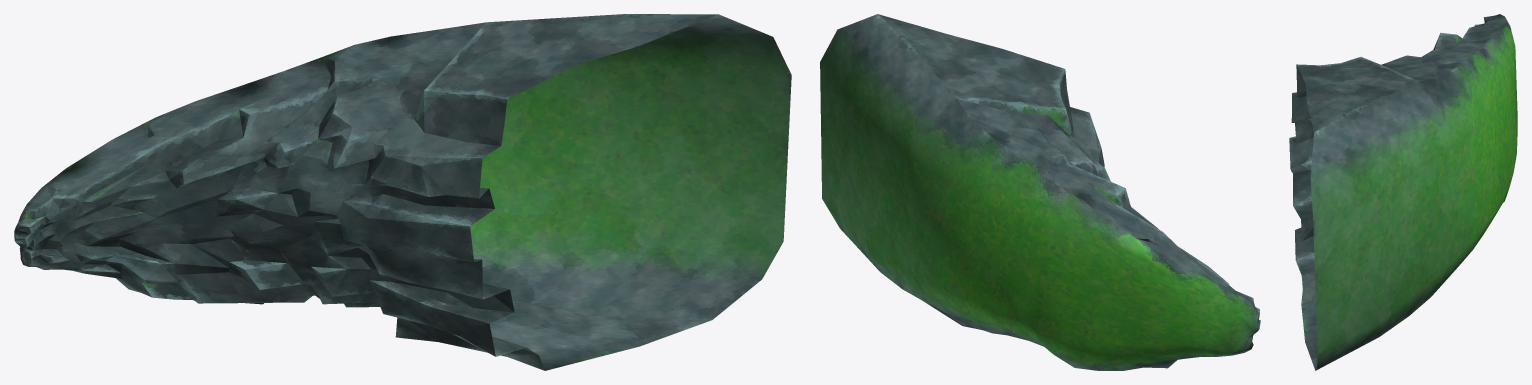
File: cliff.fbx
3 renders of one model, left to right at view 1: azimuth 30°, elevation 25°; view 2: azimuth 150°, elevation 25°; view 3: azimuth 270°, elevation 25°, orthographic. The views are drawn at different scales.
Visible parts, largest first — view 1: Cube.001; view 2: Cube.001; view 3: Cube.001.
Boxes of the visible parts, x1,y1,x2,y2 form: Cube.001: (14, 14, 791, 370); Cube.001: (820, 14, 1260, 370); Cube.001: (1289, 14, 1517, 370).
Size of the model in its own units: 8050 by 3567 by 3045.
Materials: 1 (1 with a texture image).
